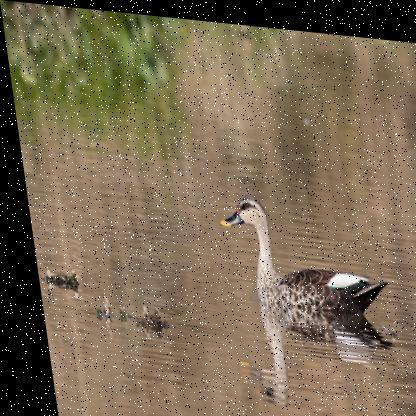Burung: (212, 187, 389, 332)
